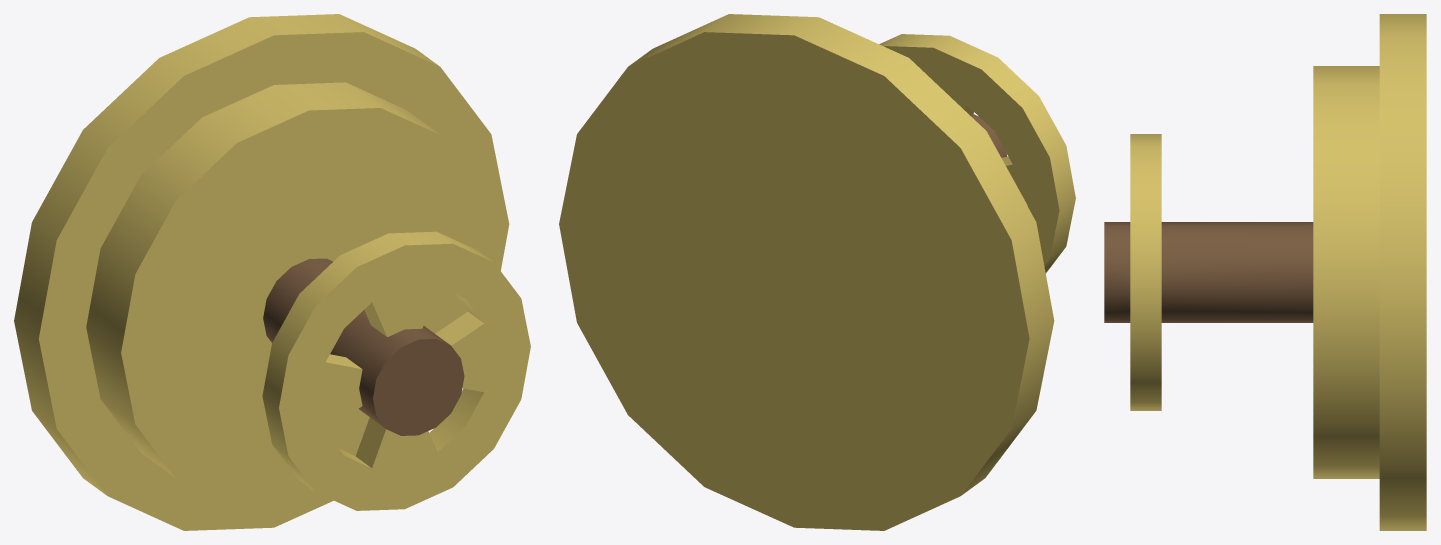
File: manija.fbx
The picture shows the model from 3 angles, left to right: view 1: azimuth 30°, elevation 25°; view 2: azimuth 150°, elevation 25°; view 3: azimuth 270°, elevation 25°; orthographic projection. The views are drawn at different scales.
Parts seen in each view (by area): view 1: cosa que gira; view 2: cosa que gira; view 3: cosa que gira.
Part boxes in pixels (<box>): cosa que gira: <box>14,14,530,530</box>; cosa que gira: <box>559,14,1075,530</box>; cosa que gira: <box>1104,14,1426,530</box>.
Size of the model in its own units: 769 by 769 by 479.
